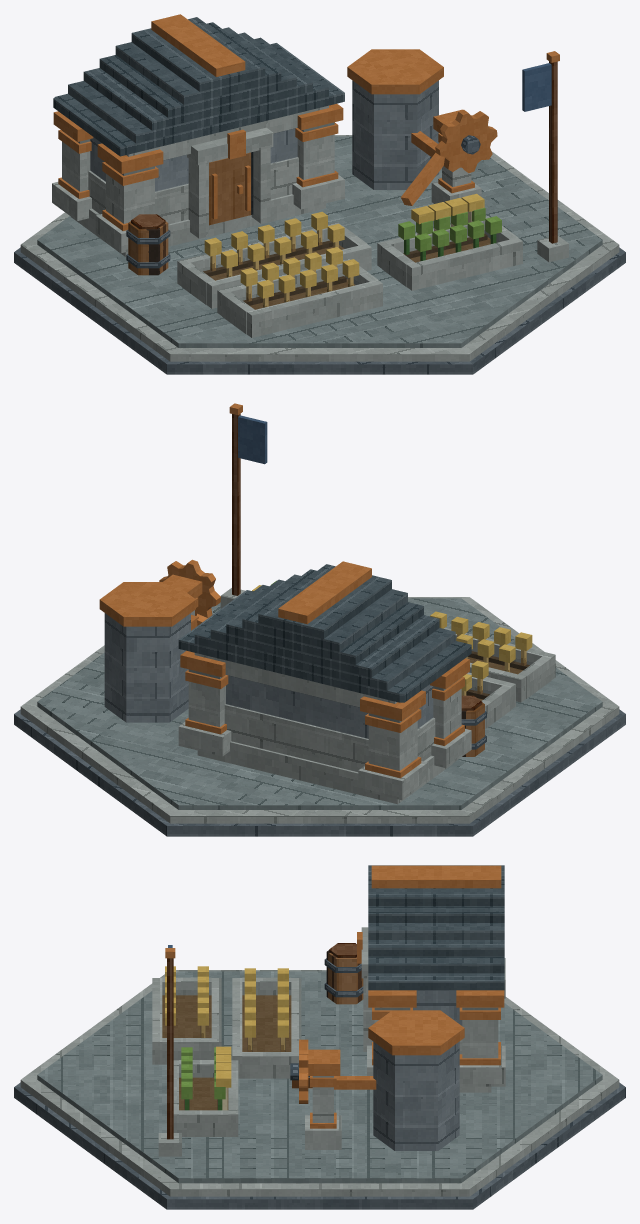
The model's file is dwarf_farm_hex_v1.glb.
The picture shows the model from 3 angles, top to bottom: view 1: azimuth 30°, elevation 25°; view 2: azimuth 150°, elevation 25°; view 3: azimuth 270°, elevation 25°; orthographic projection.
Parts seen in each view (by area): view 1: Dwarf_Farm_Hex_V1_Foundation, Dwarf_Farm_Hex_V1_Courtyard, Dwarf_Farm_Hex_V1_Roofs, Dwarf_Farm_Hex_V1_Structure, Dwarf_Farm_Hex_V1_Focus, Dwarf_Farm_Hex_V1_Details, Dwarf_Farm_Hex_V1_Hall, Dwarf_Farm_Hex_V1_Faction; view 2: Dwarf_Farm_Hex_V1_Foundation, Dwarf_Farm_Hex_V1_Roofs, Dwarf_Farm_Hex_V1_Hall, Dwarf_Farm_Hex_V1_Structure, Dwarf_Farm_Hex_V1_Focus, Dwarf_Farm_Hex_V1_Courtyard, Dwarf_Farm_Hex_V1_Details, Dwarf_Farm_Hex_V1_Faction; view 3: Dwarf_Farm_Hex_V1_Foundation, Dwarf_Farm_Hex_V1_Roofs, Dwarf_Farm_Hex_V1_Courtyard, Dwarf_Farm_Hex_V1_Focus, Dwarf_Farm_Hex_V1_Structure, Dwarf_Farm_Hex_V1_Details, Dwarf_Farm_Hex_V1_Hall.
Boxes of the visible parts, x1,y1,x2,y2 form: Dwarf_Farm_Hex_V1_Foundation: (14, 135, 625, 374); Dwarf_Farm_Hex_V1_Courtyard: (177, 207, 522, 337); Dwarf_Farm_Hex_V1_Roofs: (53, 14, 344, 156); Dwarf_Farm_Hex_V1_Structure: (52, 103, 481, 253); Dwarf_Farm_Hex_V1_Focus: (347, 49, 497, 205); Dwarf_Farm_Hex_V1_Details: (58, 51, 568, 275); Dwarf_Farm_Hex_V1_Hall: (71, 127, 325, 256); Dwarf_Farm_Hex_V1_Faction: (522, 63, 551, 111); Dwarf_Farm_Hex_V1_Foundation: (14, 597, 625, 836); Dwarf_Farm_Hex_V1_Roofs: (178, 561, 471, 702); Dwarf_Farm_Hex_V1_Hall: (197, 675, 452, 804); Dwarf_Farm_Hex_V1_Structure: (163, 574, 471, 800); Dwarf_Farm_Hex_V1_Focus: (99, 559, 220, 722); Dwarf_Farm_Hex_V1_Courtyard: (271, 580, 555, 728); Dwarf_Farm_Hex_V1_Details: (185, 403, 486, 778); Dwarf_Farm_Hex_V1_Faction: (238, 415, 267, 464); Dwarf_Farm_Hex_V1_Foundation: (14, 970, 625, 1209); Dwarf_Farm_Hex_V1_Roofs: (368, 865, 504, 990); Dwarf_Farm_Hex_V1_Courtyard: (152, 966, 301, 1136); Dwarf_Farm_Hex_V1_Focus: (290, 1010, 464, 1150); Dwarf_Farm_Hex_V1_Structure: (305, 927, 505, 1149); Dwarf_Farm_Hex_V1_Details: (158, 932, 500, 1156); Dwarf_Farm_Hex_V1_Hall: (413, 990, 491, 1092).
Size of the model in its own units: 1.59 by 0.7465 by 1.84.
Materials: 1 (1 with a texture image).
